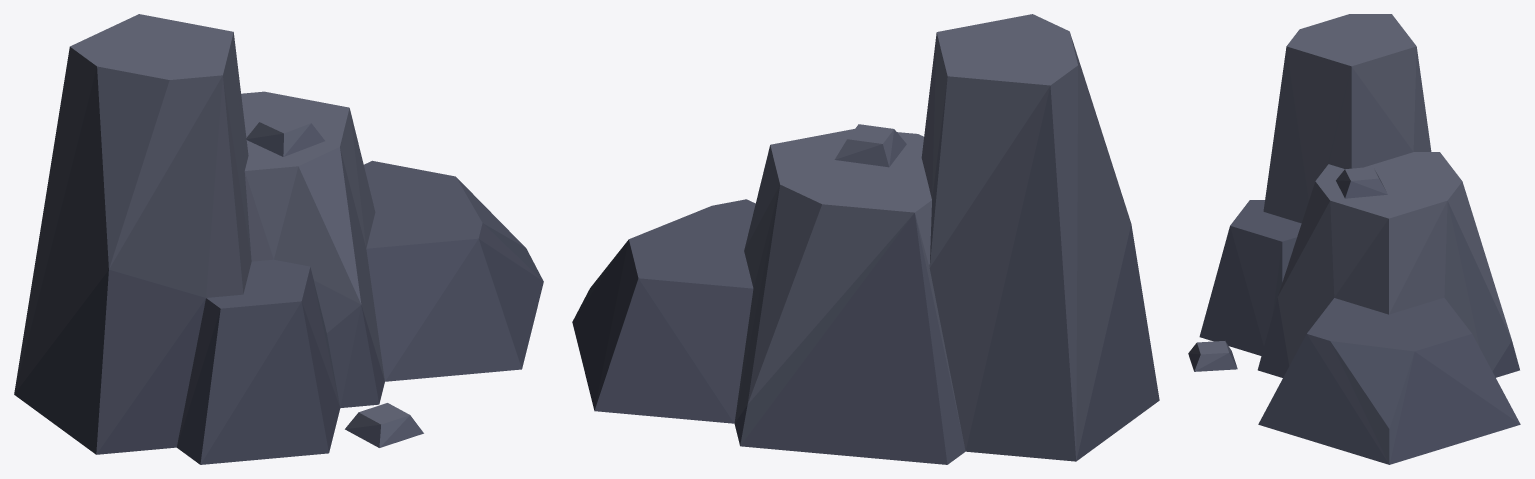
Rendered from survival_rock_c.glb.
3 views of the same model, side by side, from view 1: azimuth 30°, elevation 25°; view 2: azimuth 150°, elevation 25°; view 3: azimuth 270°, elevation 25° (orthographic). The views are drawn at different scales.
Visible parts, largest first — view 1: survival_rock_c; view 2: survival_rock_c; view 3: survival_rock_c.
Boxes of the visible parts, box(x1,y1,x2,y2) form: survival_rock_c: box(14, 14, 543, 464); survival_rock_c: box(572, 14, 1159, 464); survival_rock_c: box(1188, 14, 1520, 464).
Bounding box in the file's own units: 0.7837 × 0.51 × 0.5659.
